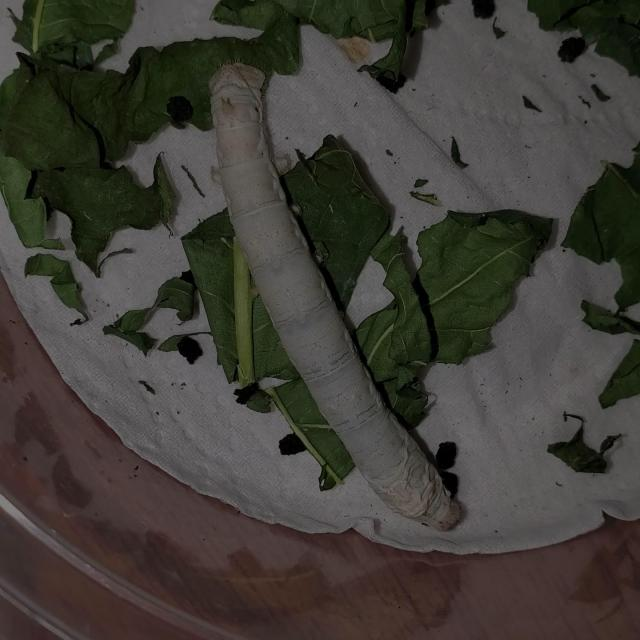Healthy: (154, 29, 478, 542)
